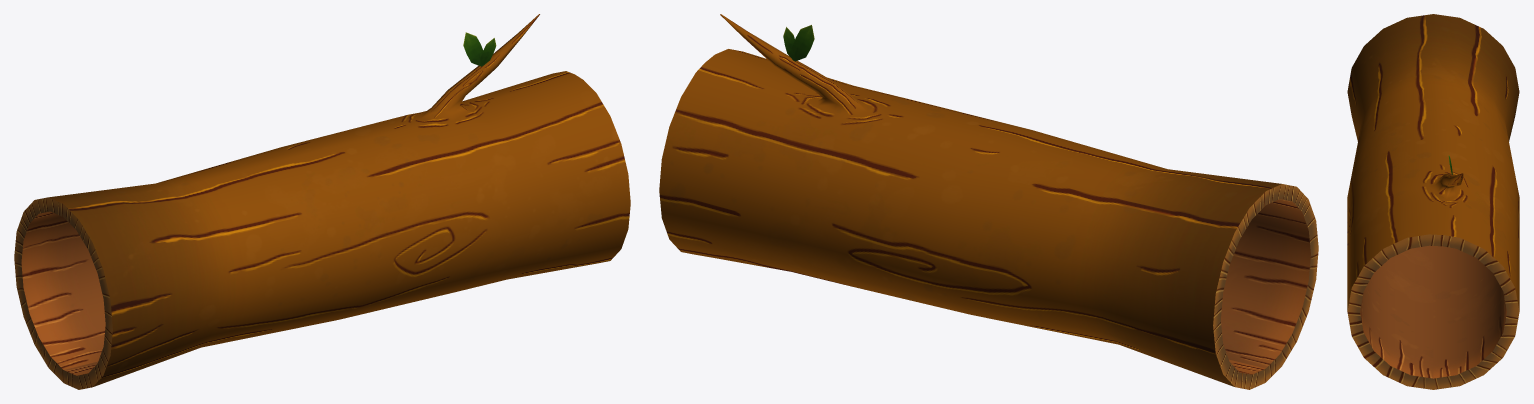
The model's file is Wood-01.fbx.
The picture shows the model from 3 angles, left to right: view 1: azimuth 30°, elevation 25°; view 2: azimuth 150°, elevation 25°; view 3: azimuth 270°, elevation 25°; orthographic projection. The views are drawn at different scales.
Parts seen in each view (by area): view 1: polySurface15; view 2: polySurface15; view 3: polySurface15.
Boxes of the visible parts, box(x1,y1,x2,y2) form: polySurface15: box(14, 14, 630, 389); polySurface15: box(659, 14, 1318, 389); polySurface15: box(1347, 14, 1519, 389).
Bounding box in the file's own units: 241 × 108 × 79.65.
1 material, 1 textured.
